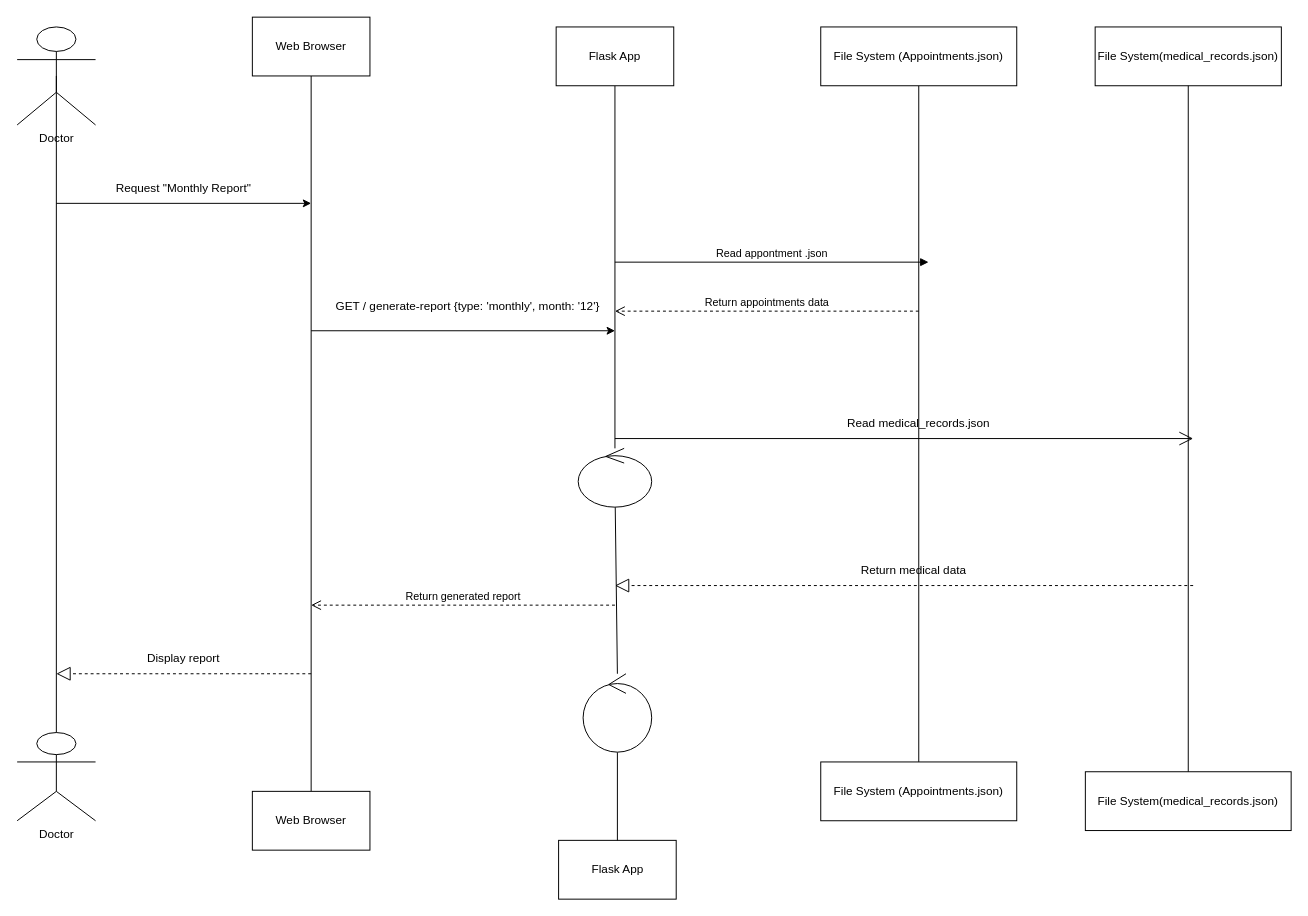
Image size: 1308x916. Some labels were removed from this diagram. Each missing label, with the box of its shape:
Generate PDF/HTML report: (582, 673, 652, 752)
Process & aggregate data: (577, 447, 652, 507)
